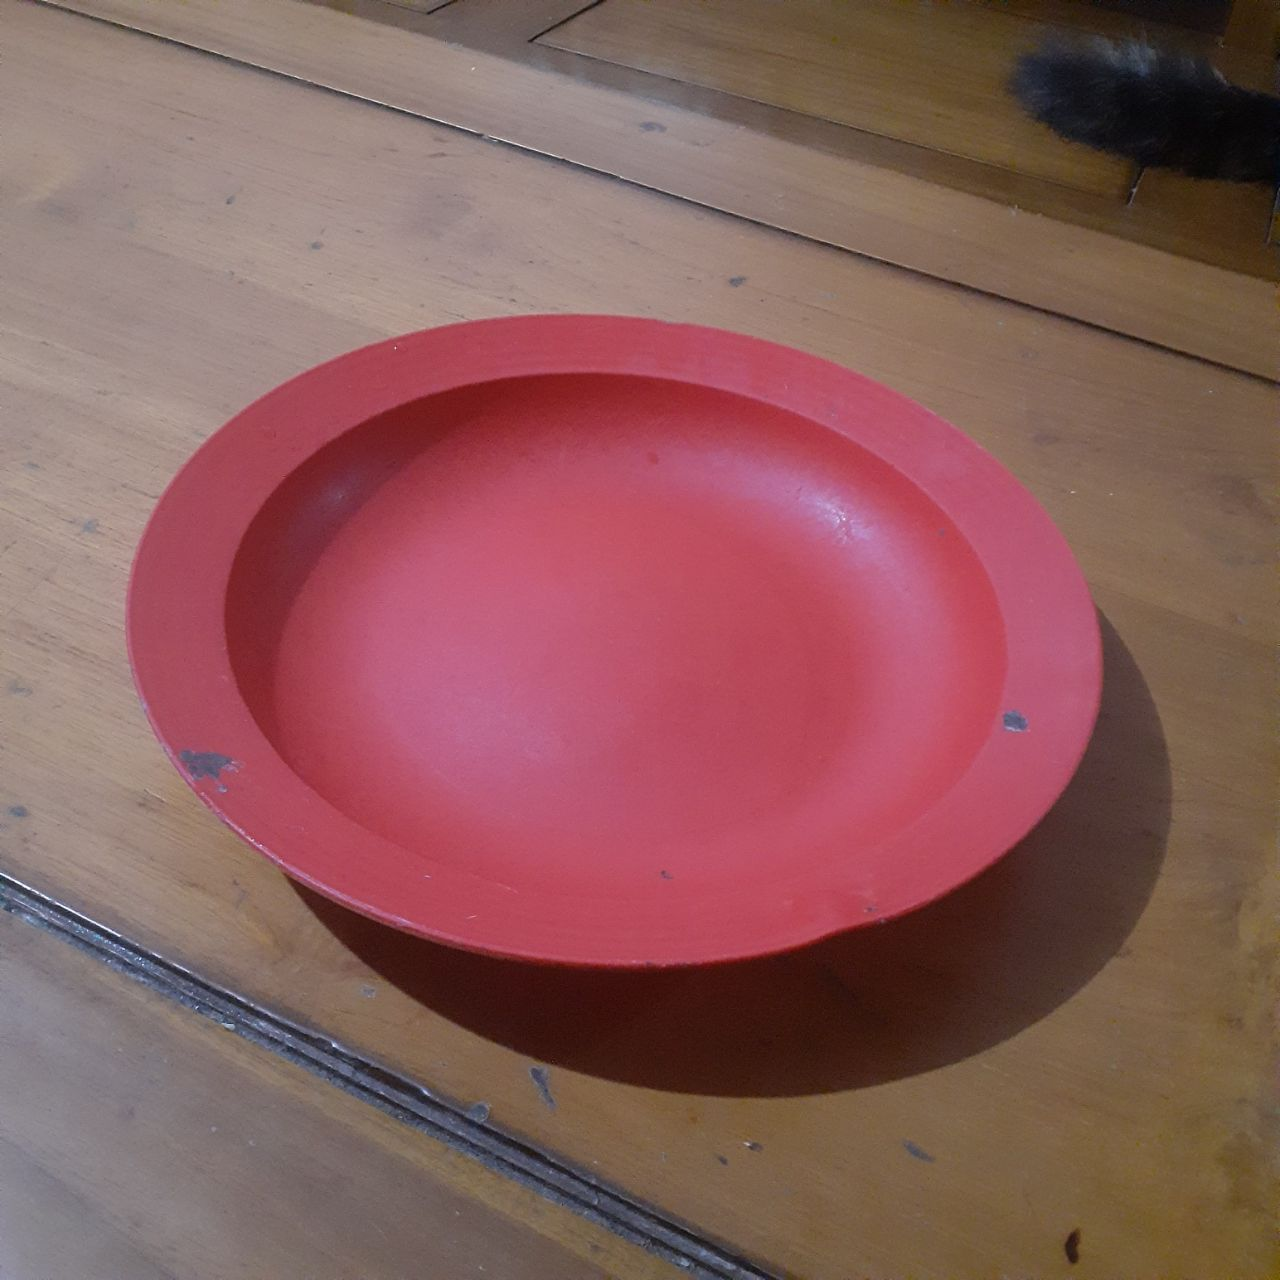piring: (122, 306, 1103, 958)
